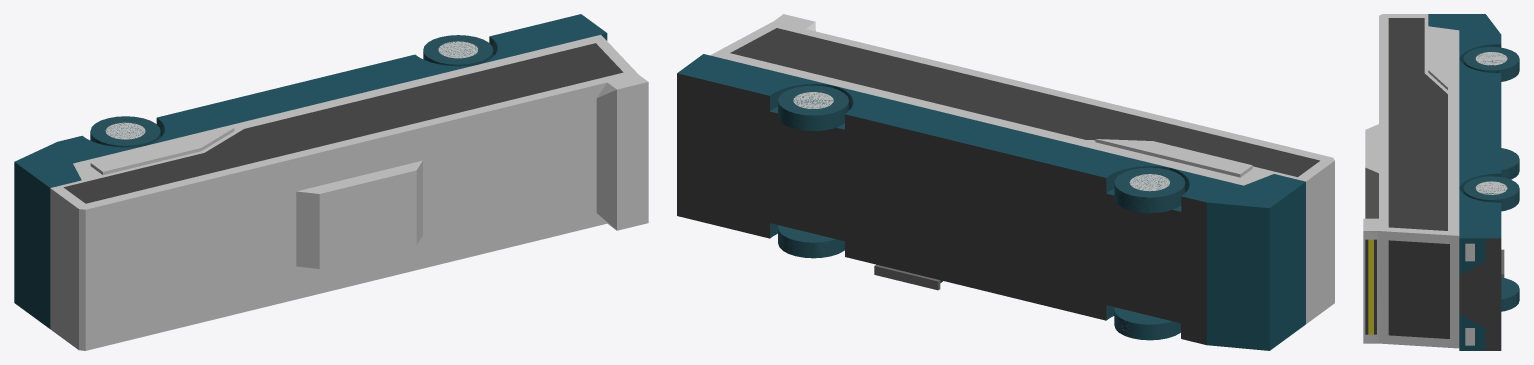
File: bus_1.dae
3 renders of one model, left to right at view 1: azimuth 30°, elevation 25°; view 2: azimuth 150°, elevation 25°; view 3: azimuth 270°, elevation 25°, orthographic. The views are drawn at different scales.
Parts seen in each view (by area): view 1: coords_ME_ID87_MA___auto_2, coords_ME_ID163_MA___auto_, coords_ME_ID131_MA___auto_2, coords_ME_ID43_MA___auto_275, coords_ME_ID151_MA___auto_275, coords_ME_ID37_MA___auto_275, coords_ME_ID105_MA___auto_2, coords_ME_ID19_MA___auto_275, coords_ME_ID3_MA___auto_275, coords_ME_ID81_MA___auto_2, coords_ME_ID69_MA___auto_2; view 2: coords_ME_ID31_MA___auto_, coords_ME_ID163_MA___auto_, coords_ME_ID43_MA___auto_275, coords_ME_ID87_MA___auto_2, coords_ME_ID151_MA___auto_275, coords_ME_ID37_MA___auto_275, coords_ME_ID19_MA___auto_275, coords_ME_ID3_MA___auto_275, coords_ME_ID105_MA___auto_2, coords_ME_ID25_MA___auto_275, coords_ME_ID13_MA___auto_275, coords_ME_ID19_MA___auto_ (+4 smaller); view 3: coords_ME_ID163_MA___auto_, coords_ME_ID87_MA___auto_2, coords_ME_ID119_MA___auto_, coords_ME_ID151_MA___auto_275, coords_ME_ID31_MA___auto_, coords_ME_ID37_MA___auto_275, coords_ME_ID43_MA___auto_275, coords_ME_ID131_MA___auto_2, coords_ME_ID3_MA___auto_275, coords_ME_ID19_MA___auto_275, coords_ME_ID105_MA___auto_2, coords_ME_ID143_MA___auto_4 (+11 smaller).
Boxes of the visible parts, x1,y1,x2,y2 form: coords_ME_ID87_MA___auto_2: (50,35,648,350); coords_ME_ID163_MA___auto_: (63,43,623,203); coords_ME_ID131_MA___auto_2: (296,160,422,268); coords_ME_ID43_MA___auto_275: (14,135,143,328); coords_ME_ID151_MA___auto_275: (147,54,477,145); coords_ME_ID37_MA___auto_275: (481,14,607,63); coords_ME_ID105_MA___auto_2: (90,128,234,174); coords_ME_ID19_MA___auto_275: (90,116,164,147); coords_ME_ID3_MA___auto_275: (423,35,497,66); coords_ME_ID81_MA___auto_2: (105,122,145,139); coords_ME_ID69_MA___auto_2: (438,41,477,58); coords_ME_ID31_MA___auto_: (677,73,1206,344); coords_ME_ID163_MA___auto_: (730,28,1319,177); coords_ME_ID43_MA___auto_275: (1171,168,1305,350); coords_ME_ID87_MA___auto_2: (710,14,1334,323); coords_ME_ID151_MA___auto_275: (835,86,1168,177); coords_ME_ID37_MA___auto_275: (677,54,831,95); coords_ME_ID19_MA___auto_275: (1106,166,1189,213); coords_ME_ID3_MA___auto_275: (770,84,853,131); coords_ME_ID105_MA___auto_2: (1095,139,1252,177); coords_ME_ID25_MA___auto_275: (1106,305,1180,340); coords_ME_ID13_MA___auto_275: (770,223,844,258); coords_ME_ID19_MA___auto_: (1106,166,1188,212); coords_ME_ID163_MA___auto_: (1388,18,1447,230); coords_ME_ID87_MA___auto_2: (1363,14,1459,348); coords_ME_ID119_MA___auto_: (1388,240,1449,338); coords_ME_ID151_MA___auto_275: (1459,59,1501,187); coords_ME_ID31_MA___auto_: (1459,238,1501,350); coords_ME_ID37_MA___auto_275: (1459,188,1501,350); coords_ME_ID43_MA___auto_275: (1428,14,1501,58); coords_ME_ID131_MA___auto_2: (1365,124,1378,218); coords_ME_ID3_MA___auto_275: (1459,173,1519,211); coords_ME_ID19_MA___auto_275: (1459,44,1519,81); coords_ME_ID105_MA___auto_2: (1428,32,1447,89); coords_ME_ID143_MA___auto_4: (1368,239,1373,334).
Bounding box in the file's own units: 78.34 × 19.91 × 23.04.
